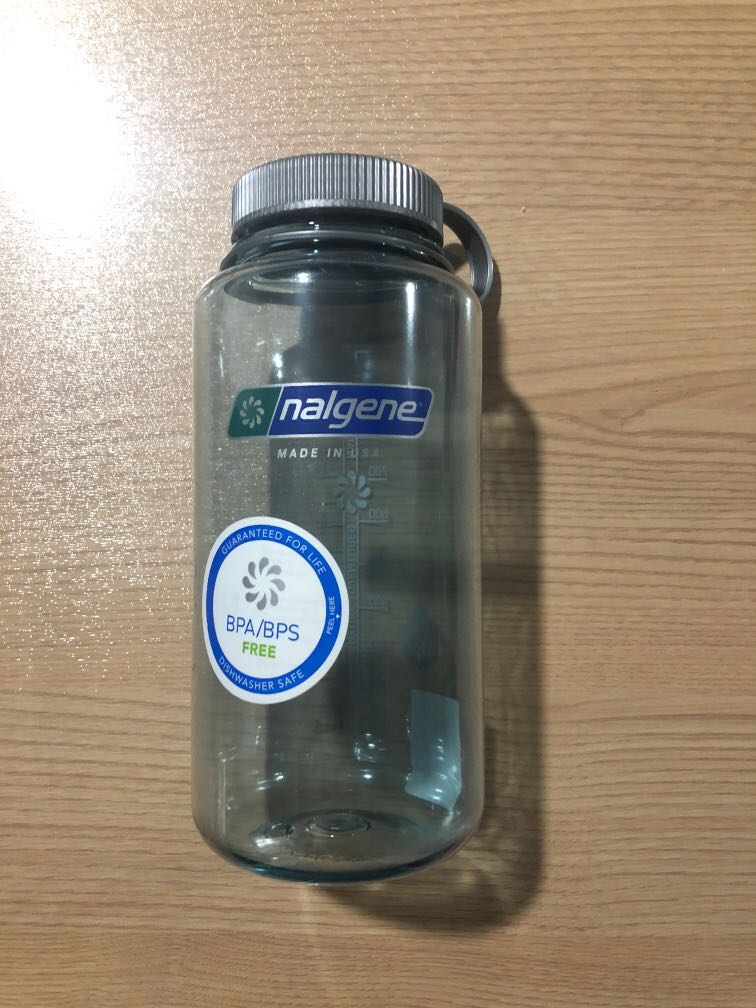waterbottle: (186, 145, 495, 889)
